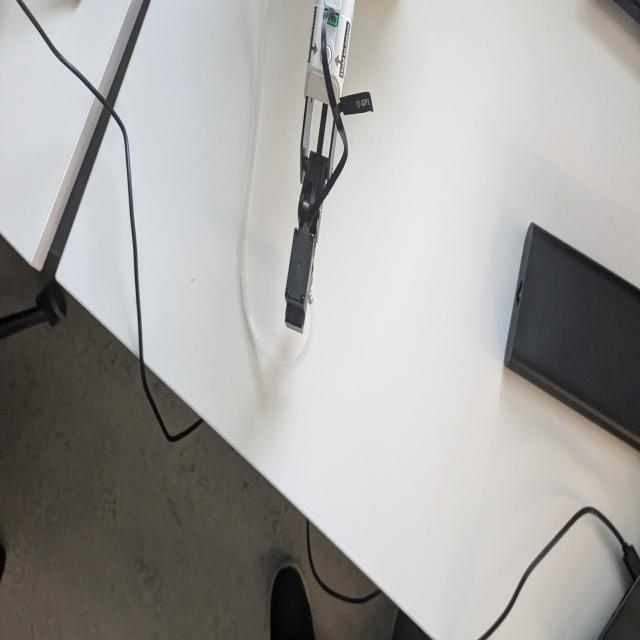Robot-end-effector-HF8z: (282, 220, 319, 343)
